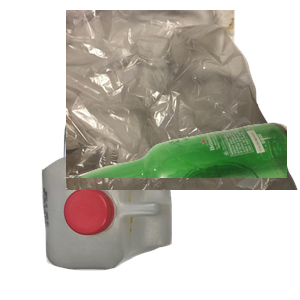glass: (60, 120, 300, 300)
metal: (60, 44, 300, 224)
plastic: (39, 149, 203, 300)
trash: (66, 10, 300, 190)
